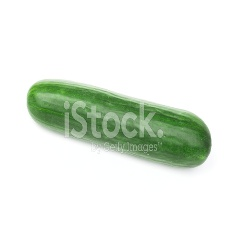cucumber: (29, 77, 209, 172)
